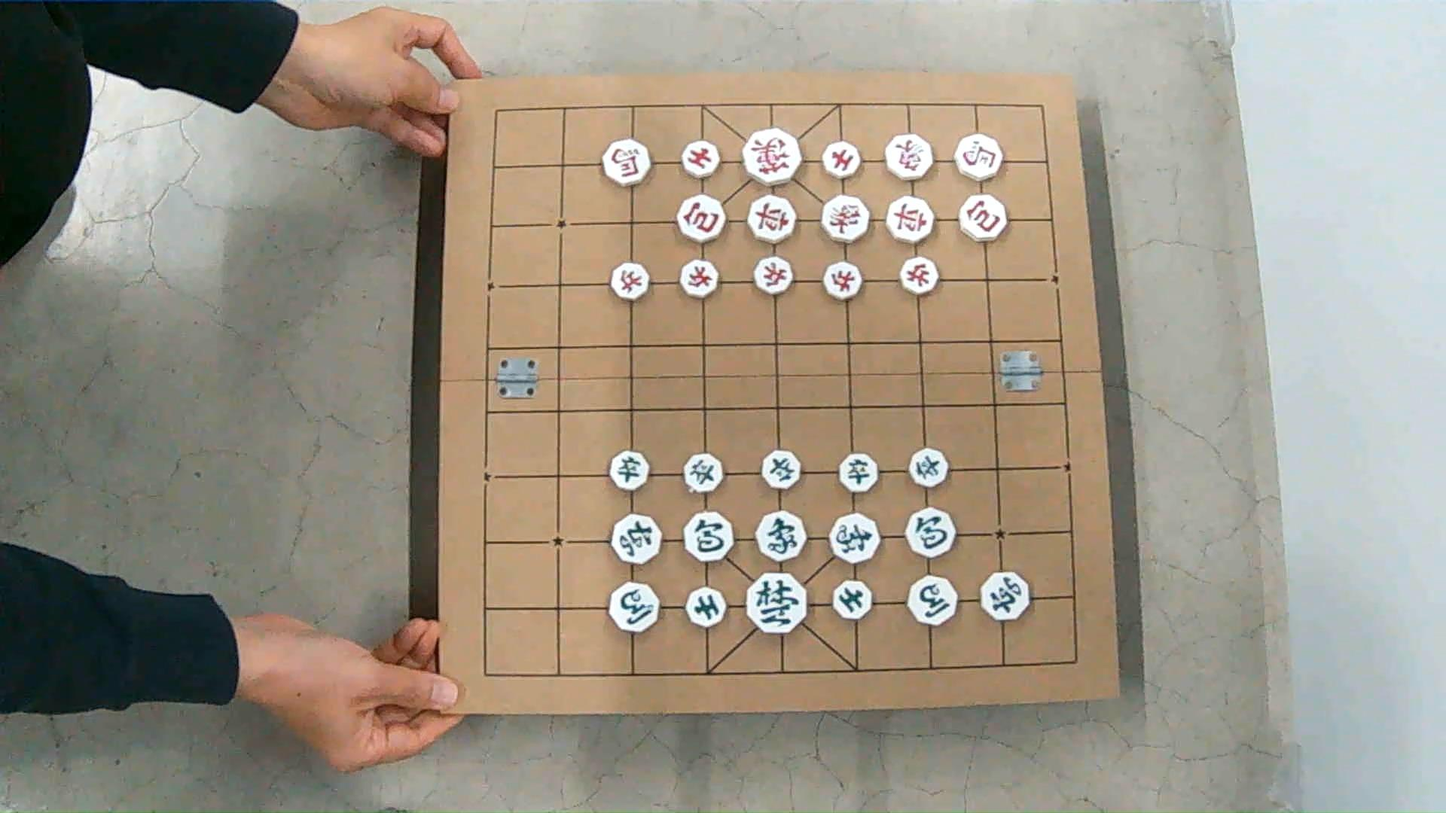cha_green: (612, 513, 660, 564), (980, 572, 1028, 620)
cha_red: (886, 196, 934, 243), (748, 196, 795, 243)
jol_green: (609, 451, 648, 491), (761, 449, 800, 489), (683, 454, 722, 492), (910, 448, 948, 487), (840, 453, 877, 493)
jol_red: (754, 256, 792, 294), (680, 259, 718, 297), (899, 257, 938, 294), (610, 263, 649, 300), (824, 262, 861, 300)
ma_green: (609, 582, 658, 632), (908, 577, 956, 626)
ma_red: (602, 139, 649, 186), (954, 134, 1002, 180)
po_green: (684, 511, 734, 562), (907, 508, 954, 558)
po_red: (677, 195, 724, 243), (959, 195, 1006, 240)
sa_green: (686, 587, 725, 628), (833, 580, 871, 620)
sa_red: (822, 141, 861, 179), (681, 141, 720, 178)
sang_green: (755, 510, 806, 562), (829, 513, 879, 563)
sang_red: (822, 195, 868, 242), (886, 135, 932, 180)
wang_green: (746, 572, 808, 635)
wang_red: (743, 129, 801, 185)
